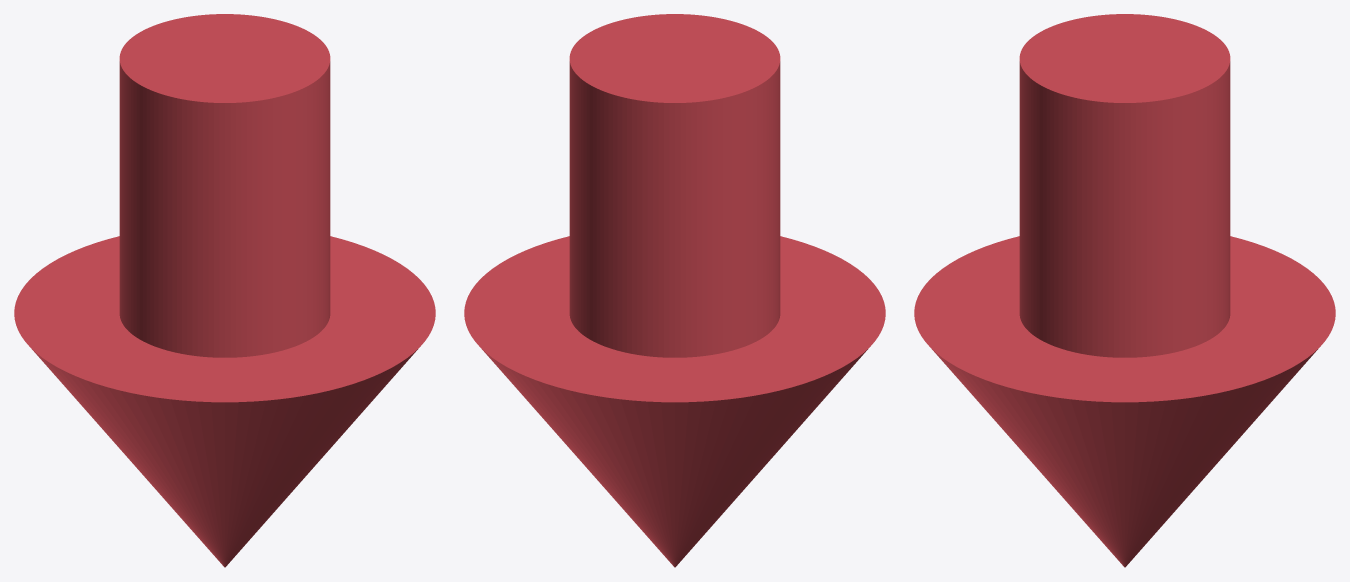
The model's file is fleche.glb.
The picture shows the model from 3 angles, left to right: view 1: azimuth 30°, elevation 25°; view 2: azimuth 150°, elevation 25°; view 3: azimuth 270°, elevation 25°; orthographic projection.
Size of the model in its own units: 0.06 by 0.08 by 0.06.
